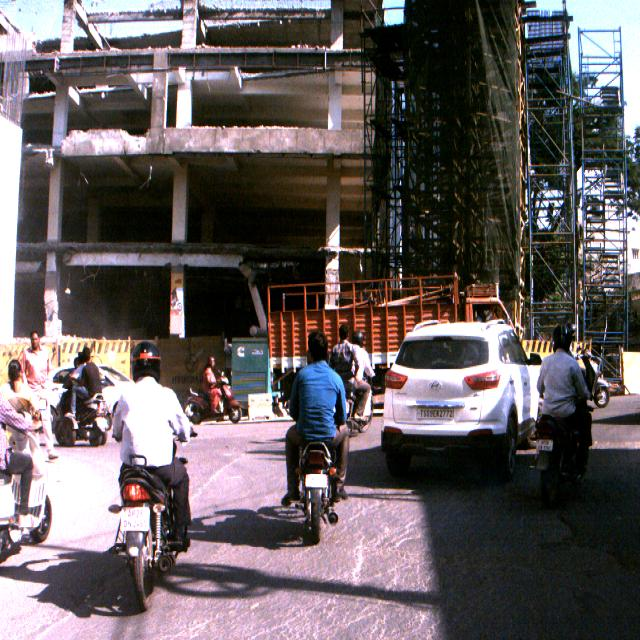car ahead at: (391, 314, 530, 489)
motorcycle ahead at: (104, 450, 194, 605), (276, 440, 350, 542)
